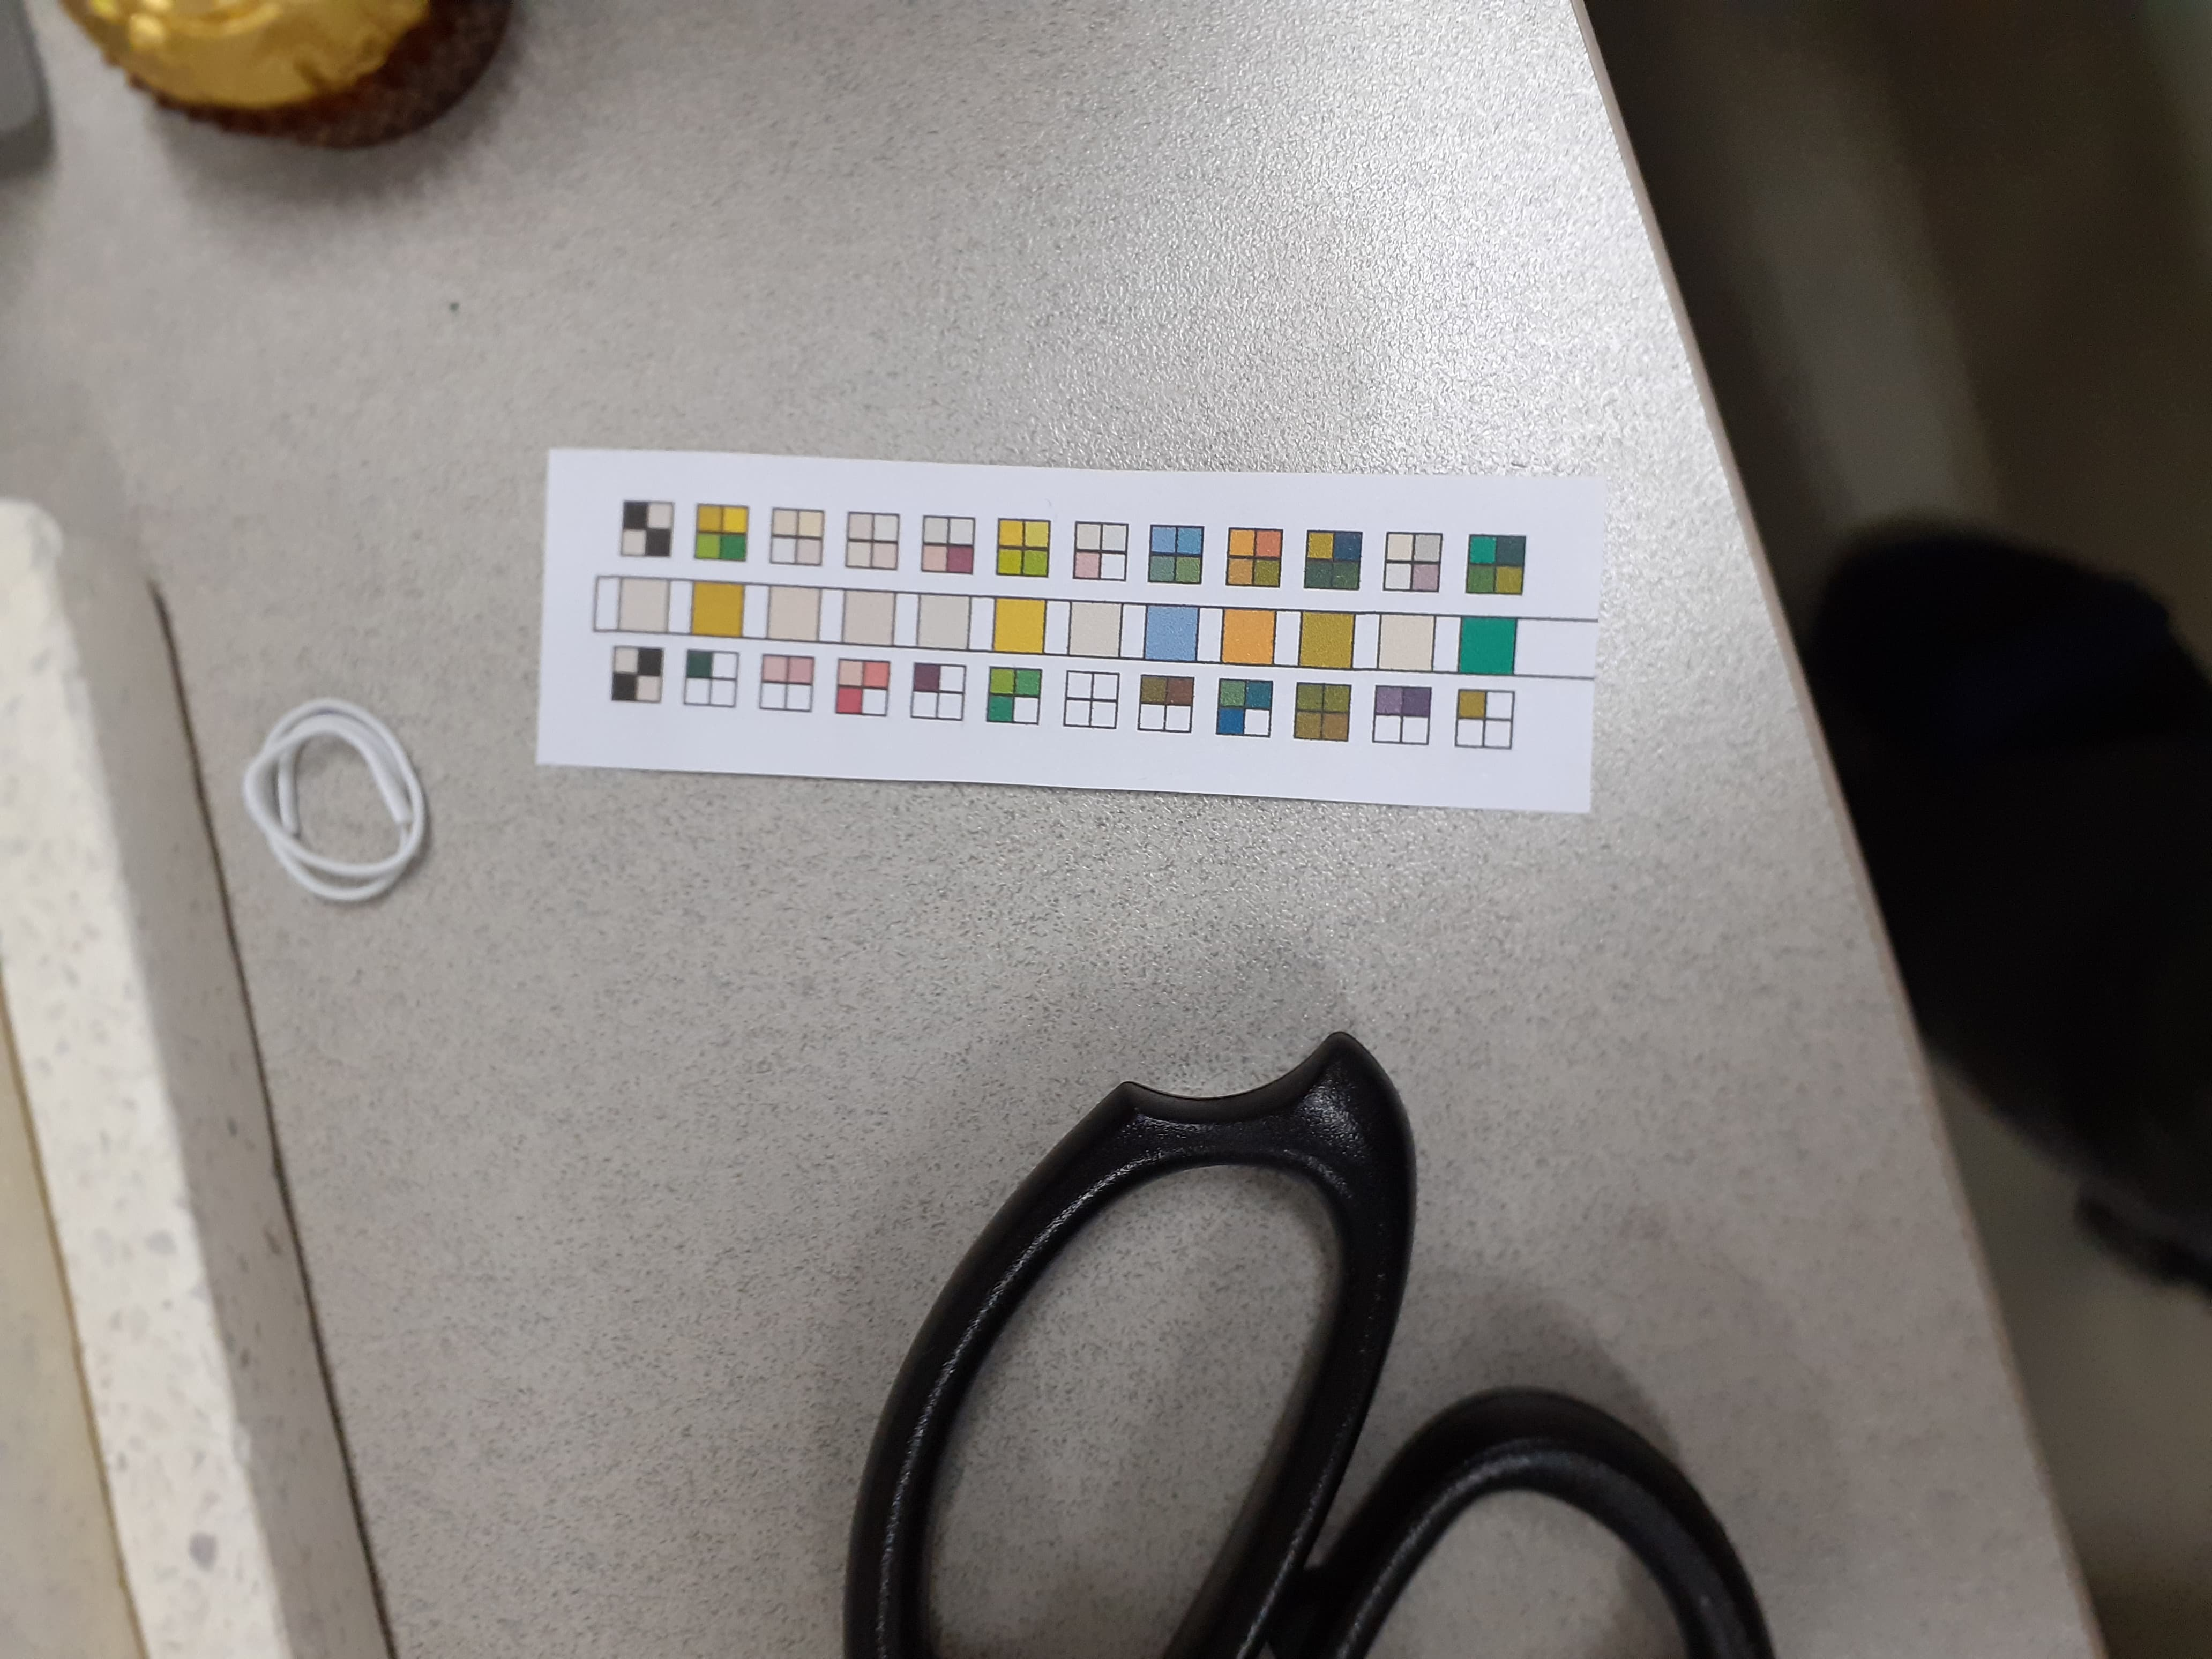tester: (547, 444, 1595, 823)
